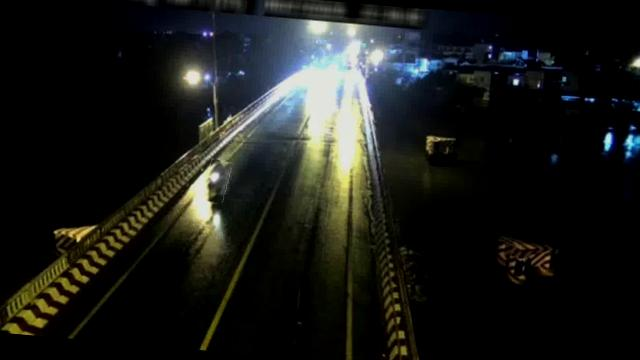Bike: (203, 159, 232, 205)
